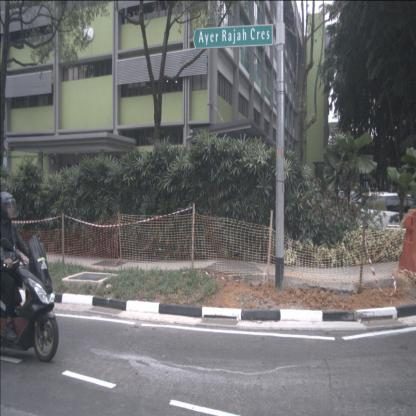movable_object-barrier: (398, 209, 416, 274)
vehicle-car: (358, 192, 416, 243), (330, 192, 338, 200), (338, 190, 344, 199)
vehicle-motorcycle: (0, 191, 59, 362)
